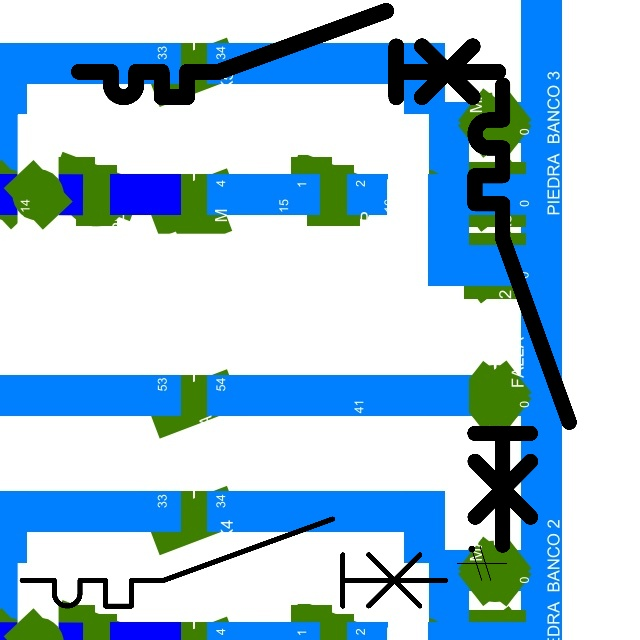interruptor_termomagnetico: (463, 73, 581, 557), (11, 508, 456, 617), (68, 0, 509, 108)
